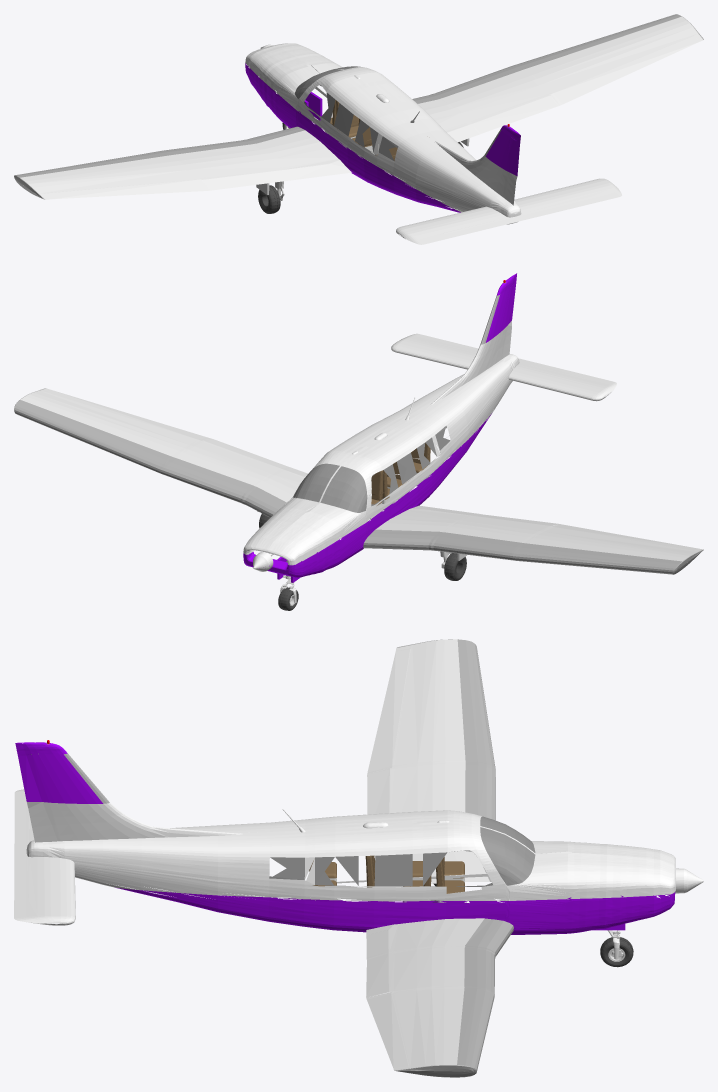
File: PropJet_NoProp.glb
3 renders of one model, top to bottom at view 1: azimuth 30°, elevation 25°; view 2: azimuth 150°, elevation 25°; view 3: azimuth 270°, elevation 25°, orthographic. The views are drawn at different scales.
Parts seen in each view (by area): view 1: Imported_DXF_Object_lib; view 2: Imported_DXF_Object_lib; view 3: Imported_DXF_Object_lib.
Part boxes in pixels (x1,y1,x2,y2): Imported_DXF_Object_lib: (14,14,703,244); Imported_DXF_Object_lib: (14,273,703,610); Imported_DXF_Object_lib: (14,639,703,1077).
Bounding box in the file's own units: 13.11 × 3.23 × 8.97.
